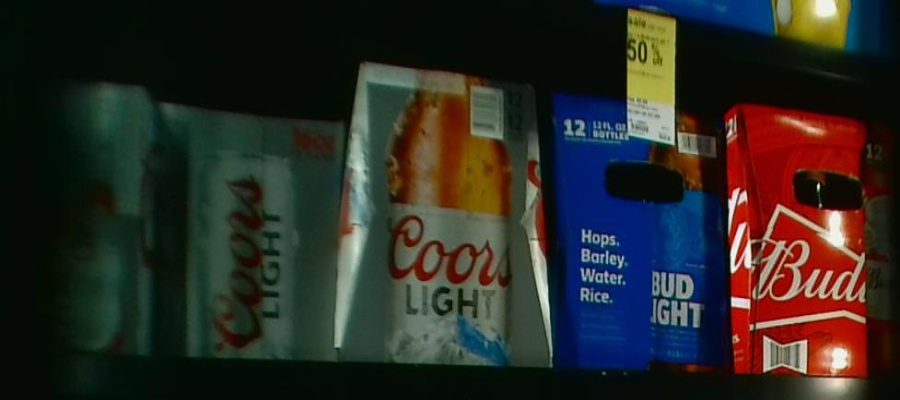bottle: (345, 59, 553, 364), (553, 85, 734, 367), (170, 91, 342, 357), (734, 96, 895, 378), (40, 74, 167, 347)
